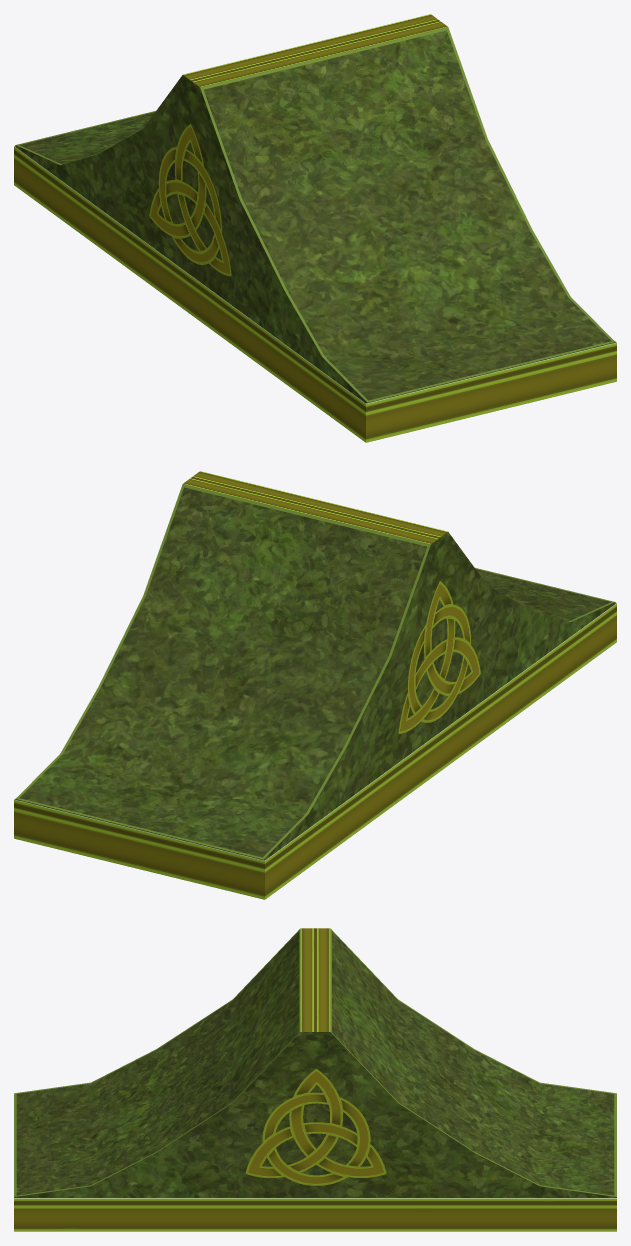
File: mountain_halframp.gltf
3 views of the same model, one above another, from view 1: azimuth 30°, elevation 25°; view 2: azimuth 150°, elevation 25°; view 3: azimuth 270°, elevation 25° (orthographic). The views are drawn at different scales.
Visible parts, largest first — view 1: mountain_halframp_glb; view 2: mountain_halframp_glb; view 3: mountain_halframp_glb.
Boxes of the visible parts, x1=… form: mountain_halframp_glb: x1=14, y1=14, x2=616, y2=442; mountain_halframp_glb: x1=14, y1=471, x2=616, y2=899; mountain_halframp_glb: x1=14, y1=928, x2=616, y2=1231.
Size of what is drawn, in the model's own units: 1.65 by 1.46 by 4.
2 materials, 2 textured.
